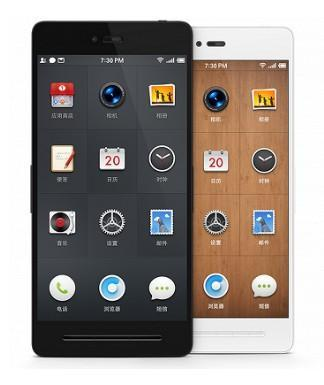phone: (30, 19, 193, 357), (193, 25, 293, 353)
